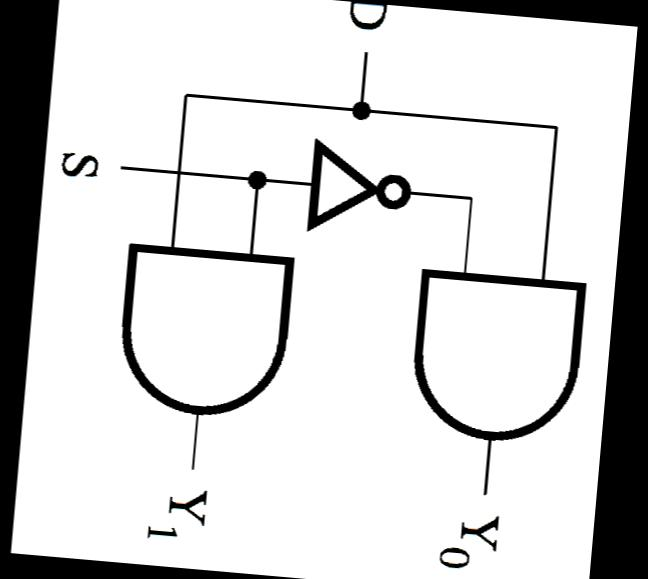and: (100, 228, 307, 435), (396, 251, 598, 463)
not: (291, 126, 425, 251)
